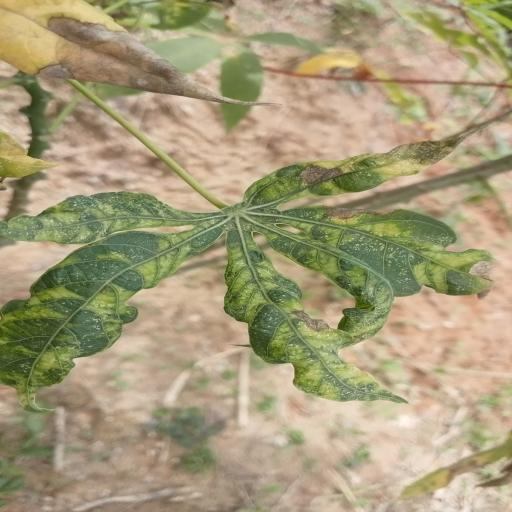Cassava_Mosaic: (0, 134, 512, 405)
